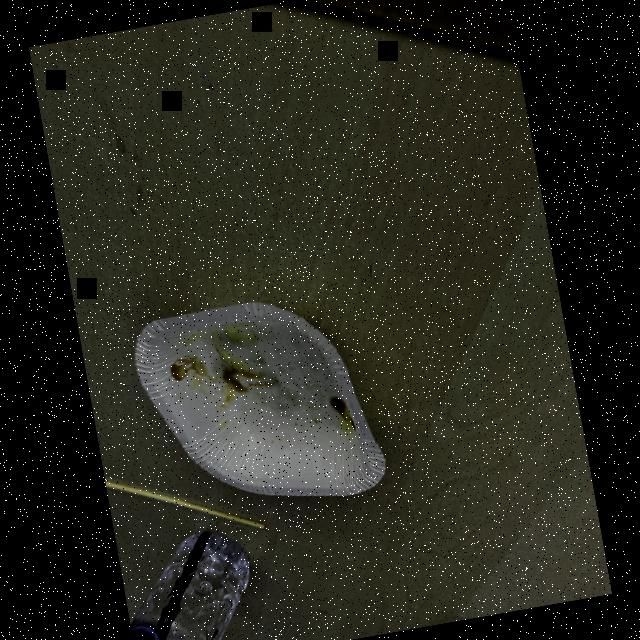cardboard_bowl: (121, 283, 400, 536)
stick: (105, 450, 272, 558)
